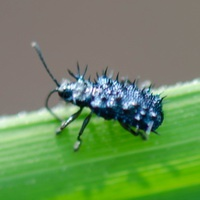insect: (31, 42, 163, 150)
